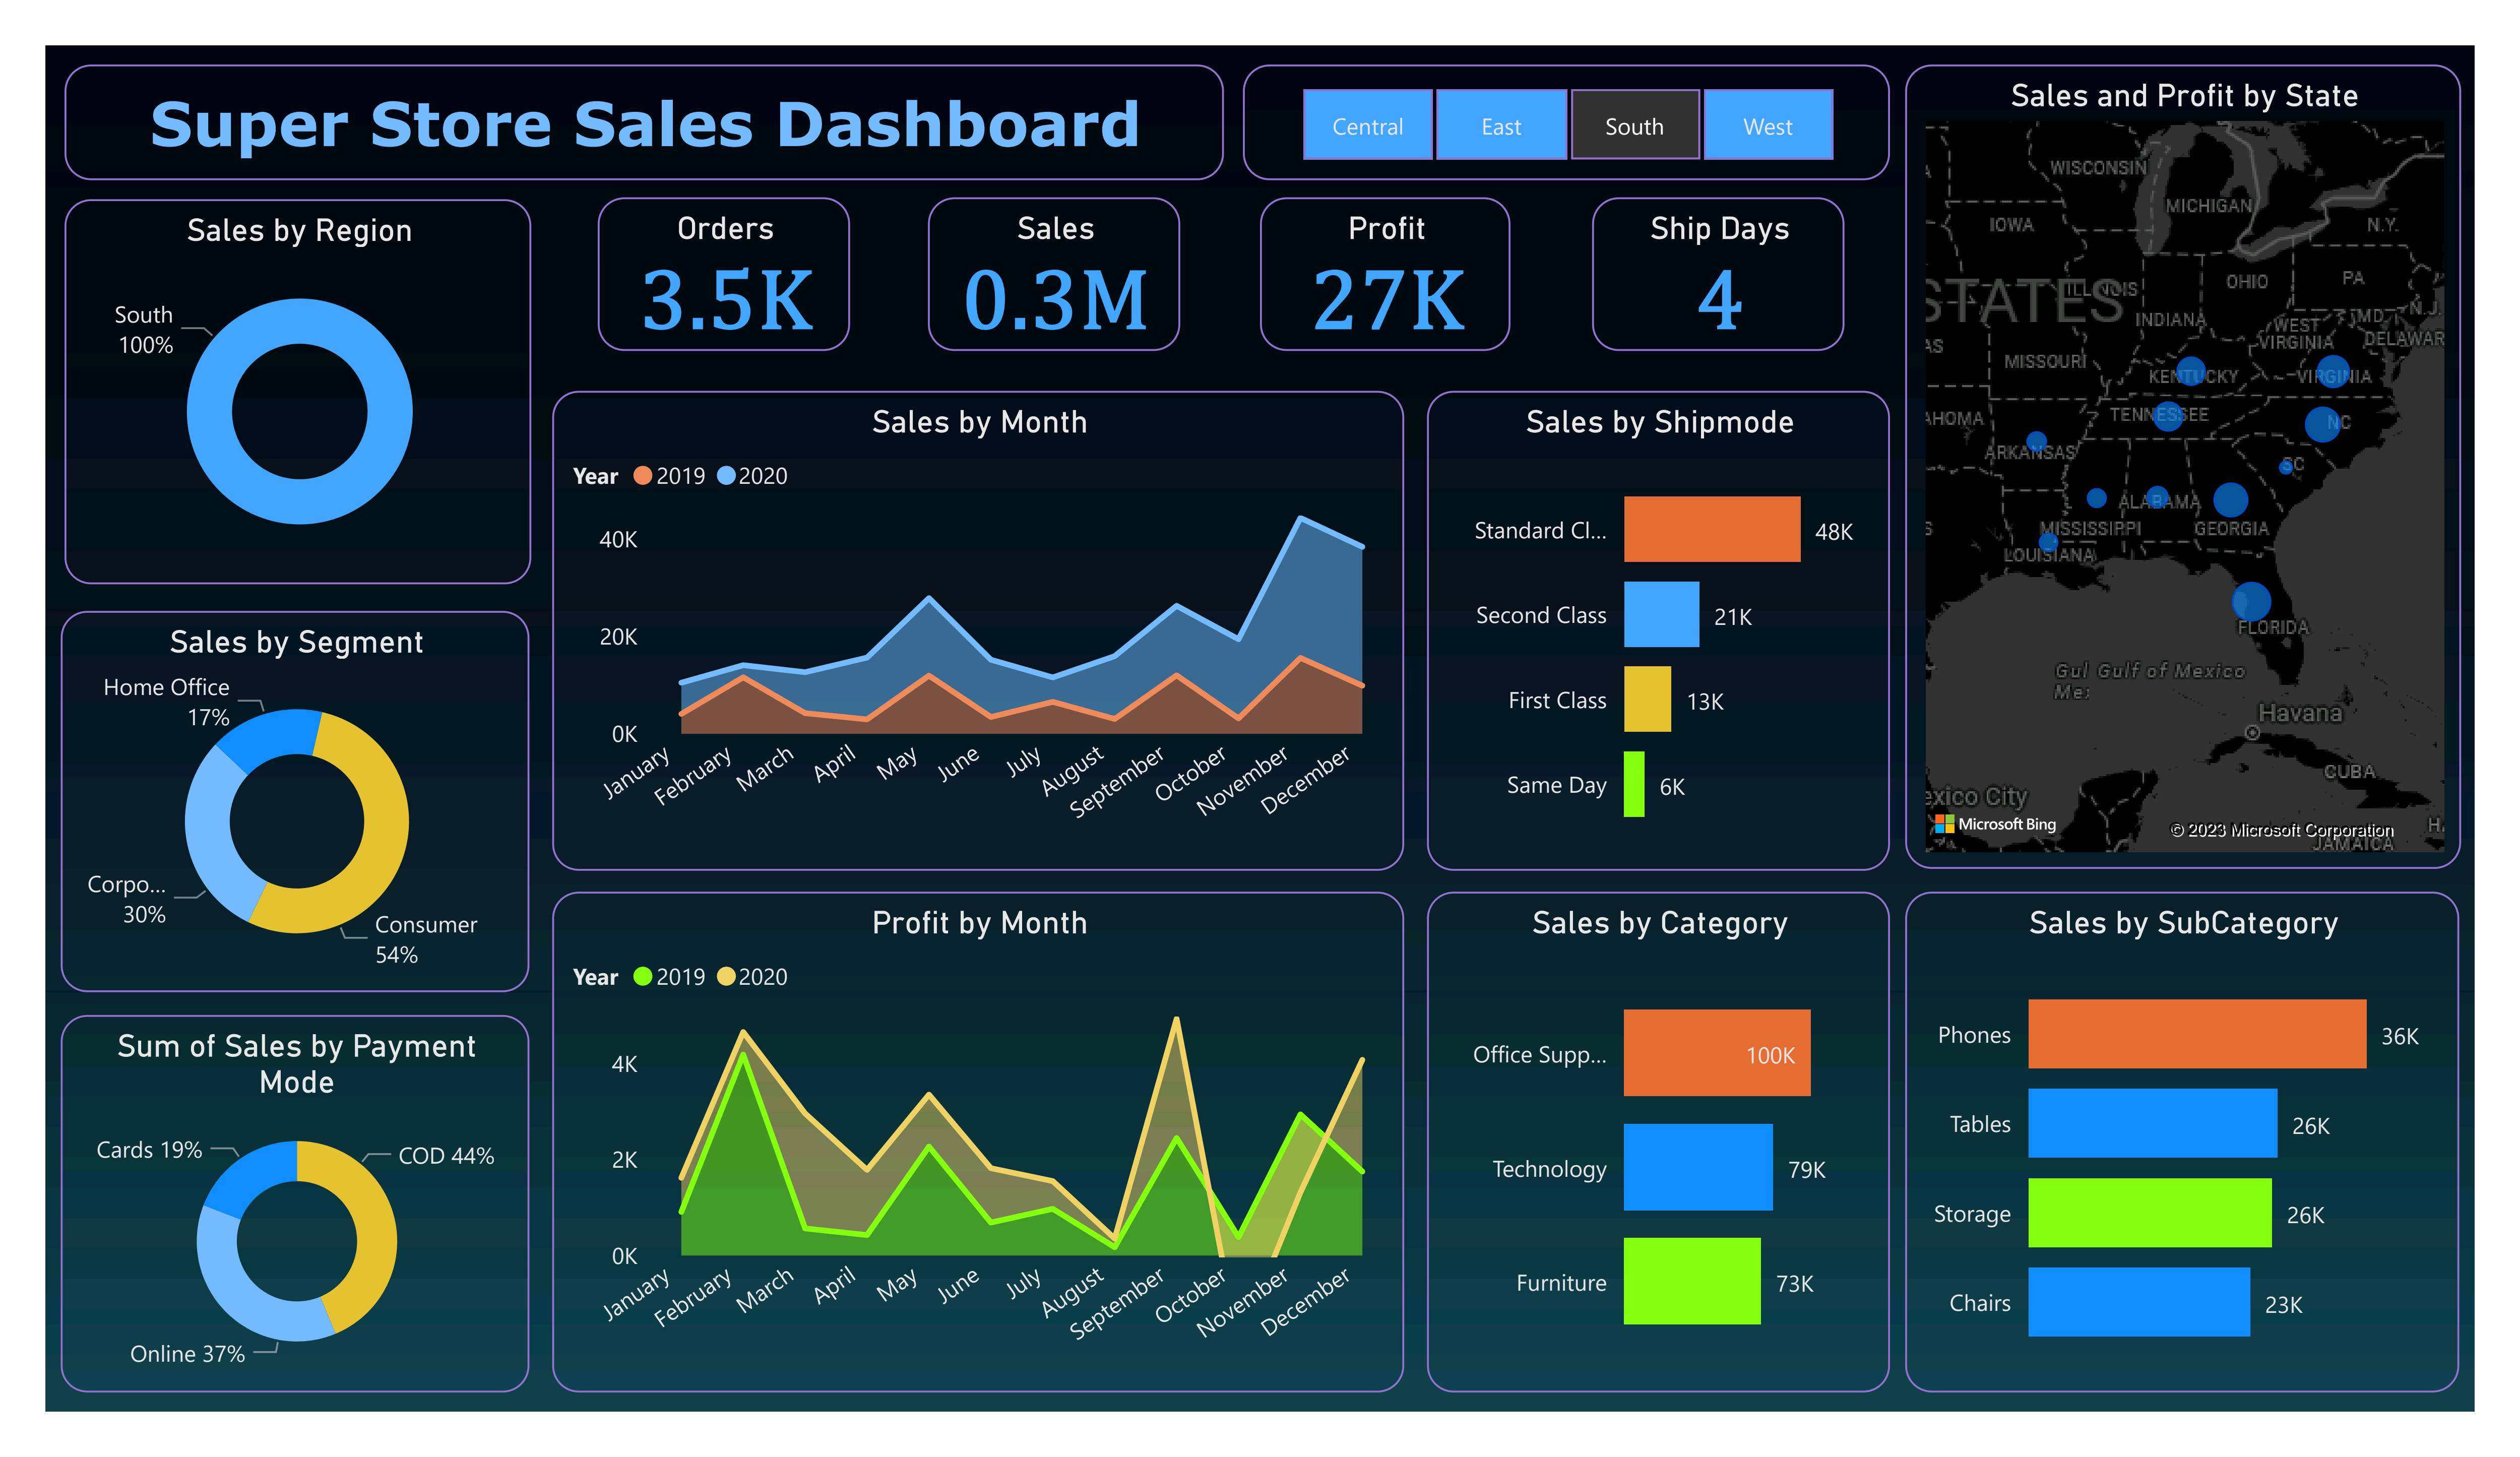

This screenshot's page, from the dashboard's own definition file:
{"tool":"powerbi","page":{"name":"Superstore Dashboard","canvas":[1280,720],"ordinal":0},"visuals":[{"type":"clusteredBarChart","title":"Sales by Category","fields":{"Category":["SuperStore_Sales_Dataset.Category"],"Y":["Sum(SuperStore_Sales_Dataset.Sales)"]},"box":[728,445.6,244,264.6],"z":0},{"type":"clusteredBarChart","title":"Sales by SubCategory","fields":{"Y":["Sum(SuperStore_Sales_Dataset.Sales)"],"Category":["SuperStore_Sales_Dataset.Sub-Category"]},"box":[980.3,445.6,292,264.6],"z":1000},{"type":"clusteredBarChart","title":"Sales by Shipmode","fields":{"Y":["Sum(SuperStore_Sales_Dataset.Sales)"],"Category":["SuperStore_Sales_Dataset.Ship Mode"]},"box":[728,182.3,244,252.3],"z":2000},{"type":"stackedAreaChart","title":"Sales by Month","fields":{"Category":["SuperStore_Sales_Dataset.Order Date.Variation.Date Hierarchy.Month","SuperStore_Sales_Dataset.Order Date.Variation.Date Hierarchy.Day"],"Y":["Sum(SuperStore_Sales_Dataset.Sales)"],"Series":["SuperStore_Sales_Dataset.Order Date.Variation.Date Hierarchy.Year"]},"box":[267.4,182.3,448.3,252.3],"z":3000},{"type":"stackedAreaChart","title":"Profit by Month","fields":{"Category":["SuperStore_Sales_Dataset.Order Date.Variation.Date Hierarchy.Month","SuperStore_Sales_Dataset.Order Date.Variation.Date Hierarchy.Day"],"Series":["SuperStore_Sales_Dataset.Order Date.Variation.Date Hierarchy.Year"],"Y":["Sum(SuperStore_Sales_Dataset.Profit)"]},"box":[267.4,445.6,448.3,264.6],"z":4000},{"type":"map","title":"Sales and Profit by State","fields":{"Category":["SuperStore_Sales_Dataset.State"],"Size":["Sum(SuperStore_Sales_Dataset.Sales)"]},"box":[980.1,10,292.5,424.2],"z":5000},{"type":"donutChart","title":"Sales by Segment","fields":{"Category":["SuperStore_Sales_Dataset.Segment"],"Y":["Sum(SuperStore_Sales_Dataset.Sales)"]},"box":[8.2,297.5,246.8,201.5],"z":6000},{"type":"donutChart","fields":{"Category":["SuperStore_Sales_Dataset.Payment Mode"],"Y":["Sum(SuperStore_Sales_Dataset.Sales)"]},"box":[8.2,511.4,246.8,198.8],"z":7000},{"type":"slicer","fields":{"Values":["SuperStore_Sales_Dataset.Region"]},"box":[630.7,10,341.6,61.4],"z":8000},{"type":"donutChart","title":"Sales by Region","fields":{"Category":["SuperStore_Sales_Dataset.Region"],"Y":["Sum(SuperStore_Sales_Dataset.Sales)"]},"box":[9.6,80.9,246.8,202.9],"z":9000},{"type":"card","title":"Orders","fields":{"Values":["Sum(SuperStore_Sales_Dataset.Quantity)"]},"box":[291.3,80.4,132.8,80.4],"z":10000},{"type":"card","title":"Sales","fields":{"Values":["Sum(SuperStore_Sales_Dataset.Sales)"]},"box":[465.5,80.4,132.8,80.4],"z":11000},{"type":"card","title":"Profit","fields":{"Values":["Sum(SuperStore_Sales_Dataset.Profit)"]},"box":[639.6,80.4,132.8,80.4],"z":12000},{"type":"card","title":"Ship Days","fields":{"Values":["Avg(SuperStore_Sales_Dataset.AvgDelivery)"]},"box":[814.9,80.4,132.8,80.4],"z":13000},{"type":"textbox","box":[9.6,9.6,611.5,61.7],"z":14000}]}

Visuals, with their boxes on the page's 1280x720 design canvas (x1, y1, x2, y2). These are canvas units, not pixel positions in the 2520x1457 screenshot, which may show the page scaled, cropped or inside an application window:
"Sales by Category" clusteredBarChart: crop(728, 446, 972, 710)
"Sales by SubCategory" clusteredBarChart: crop(980, 446, 1272, 710)
"Sales by Shipmode" clusteredBarChart: crop(728, 182, 972, 435)
"Sales by Month" stackedAreaChart: crop(267, 182, 716, 435)
"Profit by Month" stackedAreaChart: crop(267, 446, 716, 710)
"Sales and Profit by State" map: crop(980, 10, 1273, 434)
"Sales by Segment" donutChart: crop(8, 298, 255, 499)
donutChart - SuperStore_Sales_Dataset.Payment Mode x Sum(SuperStore_Sales_Dataset.Sales): crop(8, 511, 255, 710)
slicer - SuperStore_Sales_Dataset.Region: crop(631, 10, 972, 71)
"Sales by Region" donutChart: crop(10, 81, 256, 284)
"Orders" card: crop(291, 80, 424, 161)
"Sales" card: crop(466, 80, 598, 161)
"Profit" card: crop(640, 80, 772, 161)
"Ship Days" card: crop(815, 80, 948, 161)
textbox: crop(10, 10, 621, 71)
